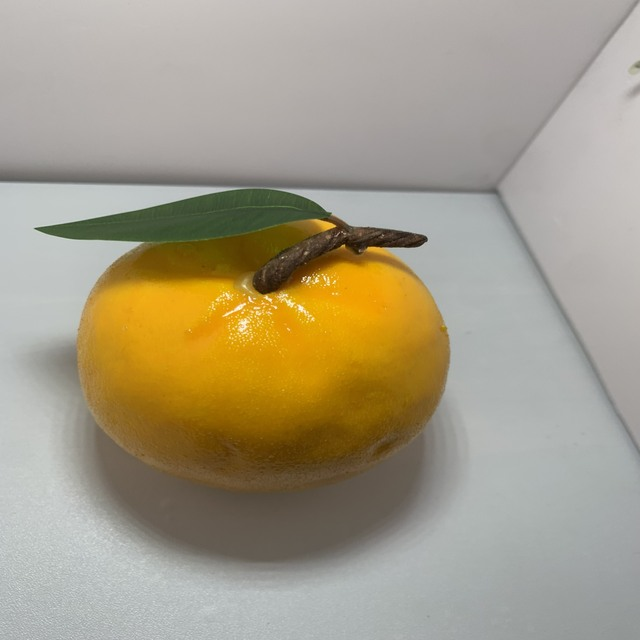Cam vang: (71, 182, 455, 497)
